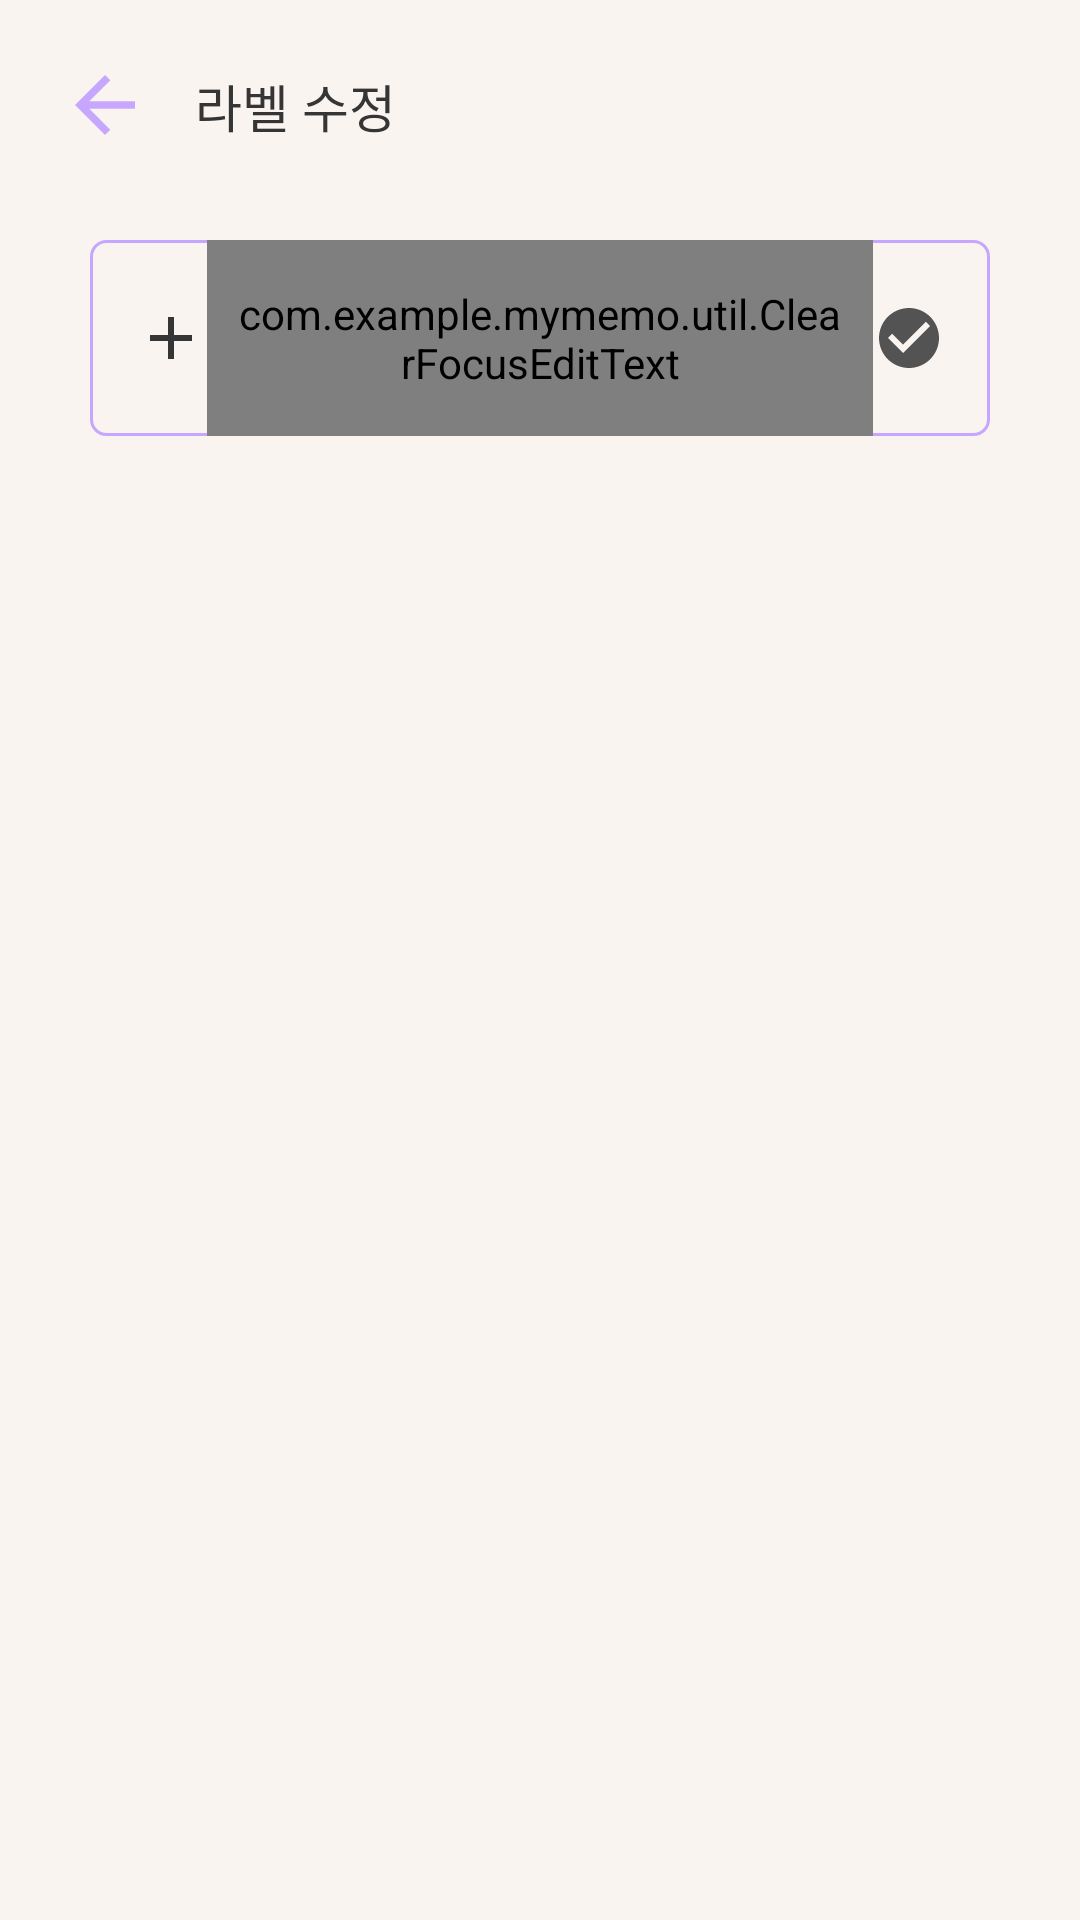

Icon bounding boxes for this 1080px×1920px phone screenshot, format [x1, y1, x2, y2]:
back: [75, 75, 135, 135]
check: [879, 308, 939, 368]
label add: [150, 317, 192, 359]
